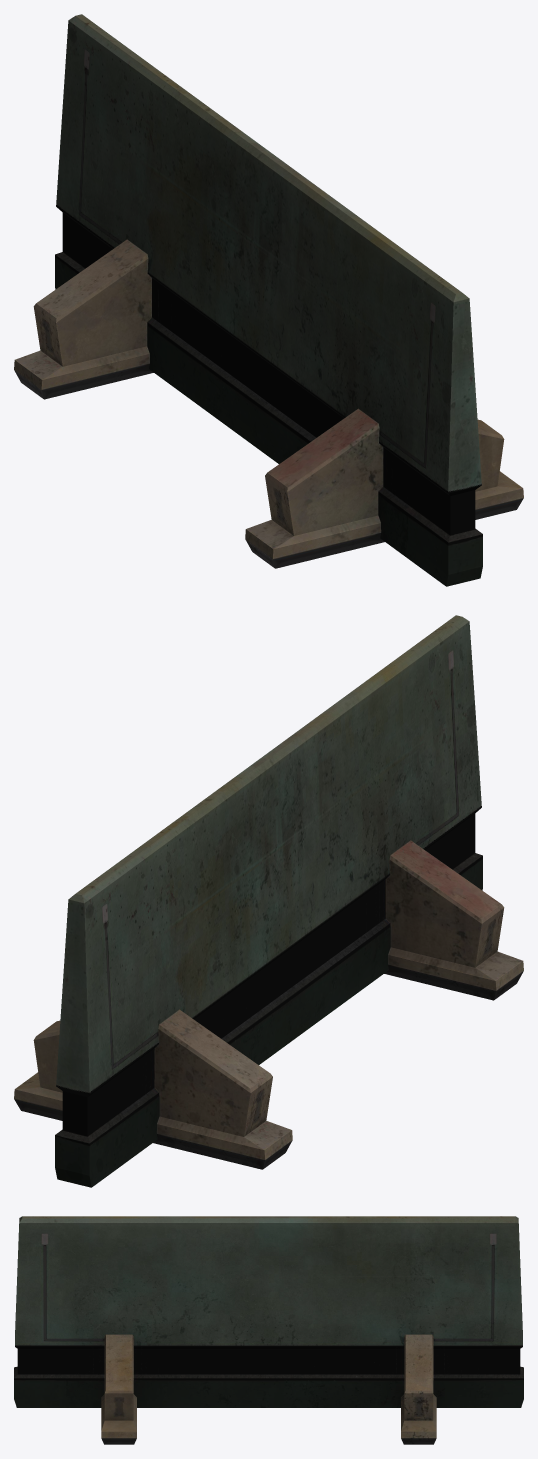
File: Derelict_Corridors_Blocker.obj
3 renders of one model, top to bottom at view 1: azimuth 30°, elevation 25°; view 2: azimuth 150°, elevation 25°; view 3: azimuth 270°, elevation 25°, orthographic. The views are drawn at different scales.
Visible parts, largest first — view 1: Derelict_Corridor_Blocker_Low; view 2: Derelict_Corridor_Blocker_Low; view 3: Derelict_Corridor_Blocker_Low.
Boxes of the visible parts, box(x1,y1,x2,y2) form: Derelict_Corridor_Blocker_Low: box(14, 14, 523, 586); Derelict_Corridor_Blocker_Low: box(14, 615, 523, 1187); Derelict_Corridor_Blocker_Low: box(14, 1216, 523, 1444).
Size of the model in its own units: 100 by 111 by 272.
Materials: 1 (1 with a texture image).
